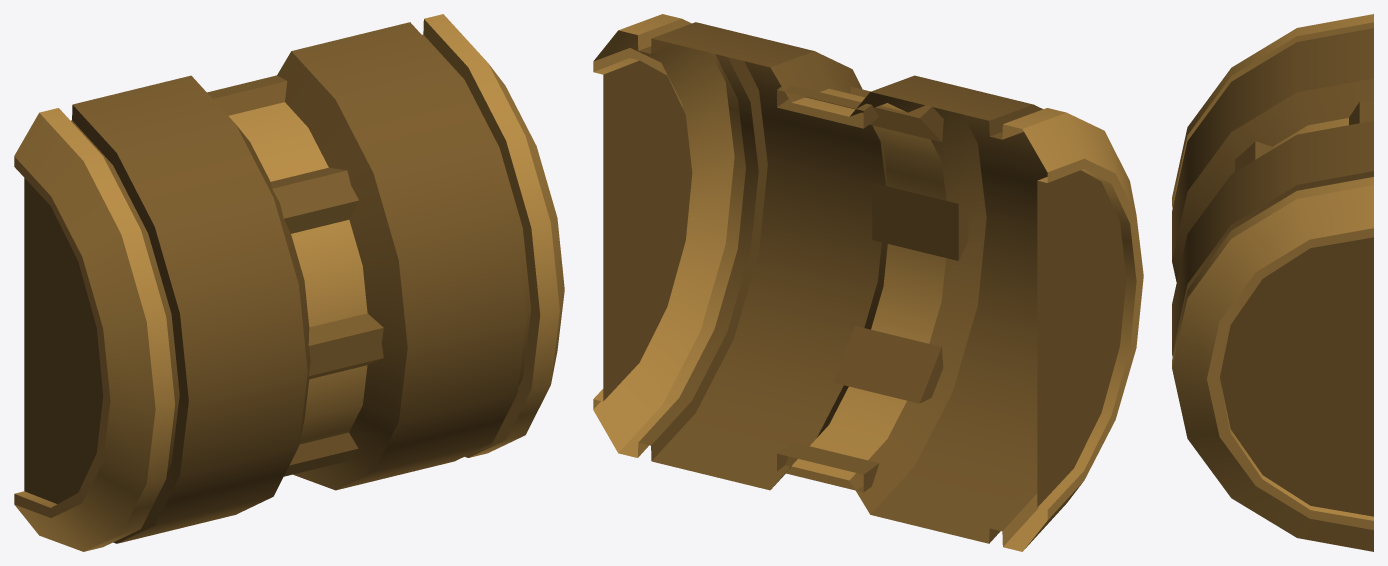
File: Details_Cylinder.glb
The picture shows the model from 3 angles, left to right: view 1: azimuth 30°, elevation 25°; view 2: azimuth 150°, elevation 25°; view 3: azimuth 270°, elevation 25°; orthographic projection. The views are drawn at different scales.
Visible parts, largest first — view 1: Details_Cylinder; view 2: Details_Cylinder; view 3: Details_Cylinder.
Boxes of the visible parts, x1,y1,x2,y2 form: Details_Cylinder: (14,14,564,551); Details_Cylinder: (593,14,1143,551); Details_Cylinder: (1172,14,1373,551).
Size of the model in its own units: 0.1463 by 0.1301 by 0.0649.
